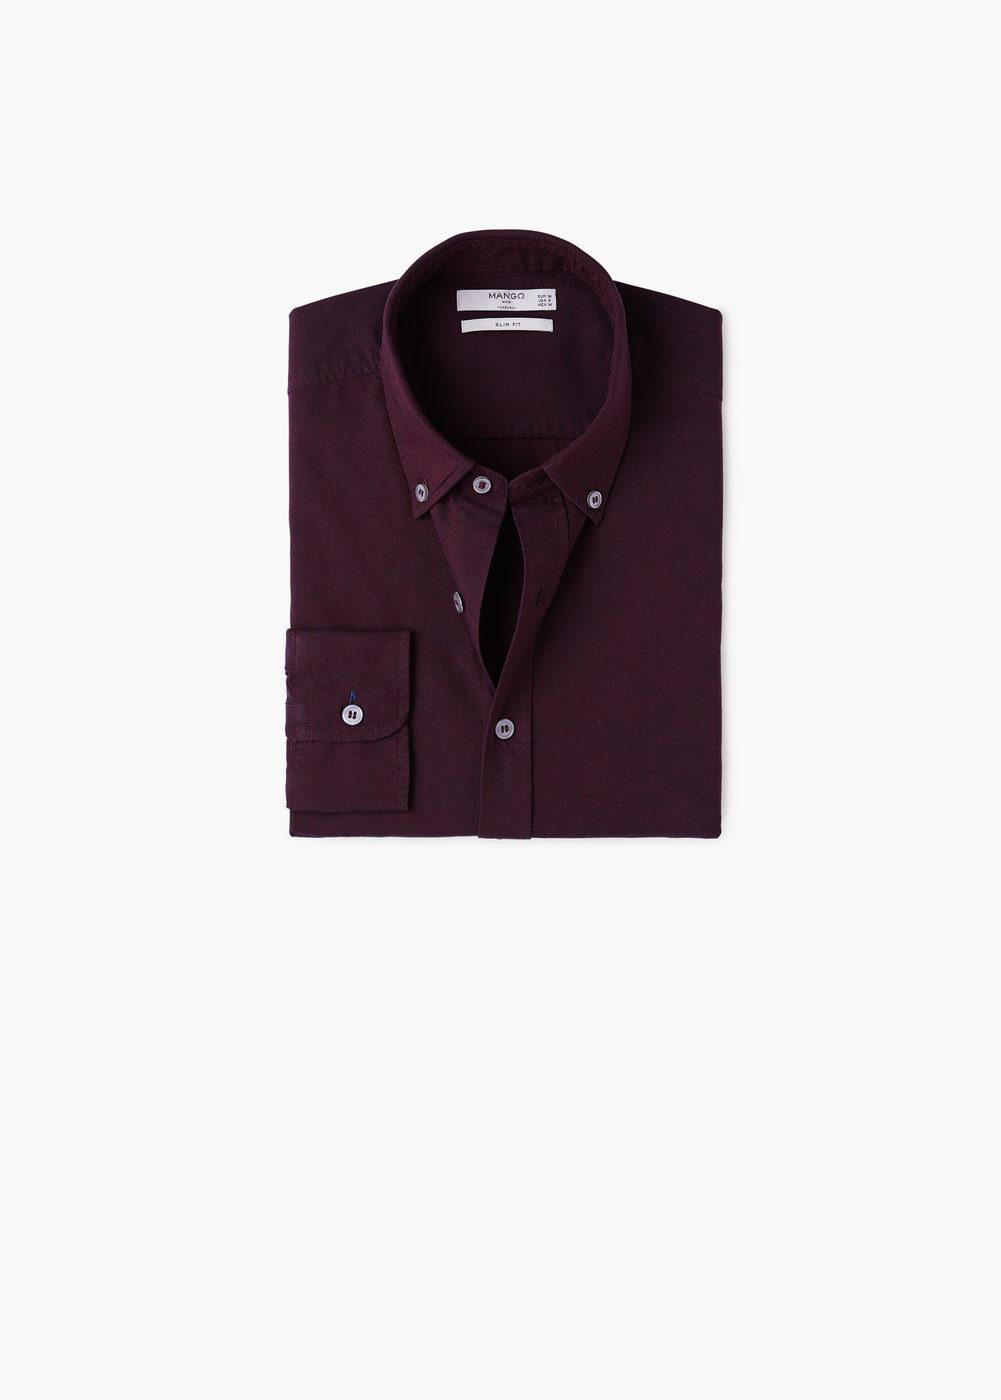teeshirt: (231, 223, 740, 872)
